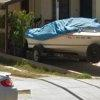Boat: (23, 15, 99, 67)
